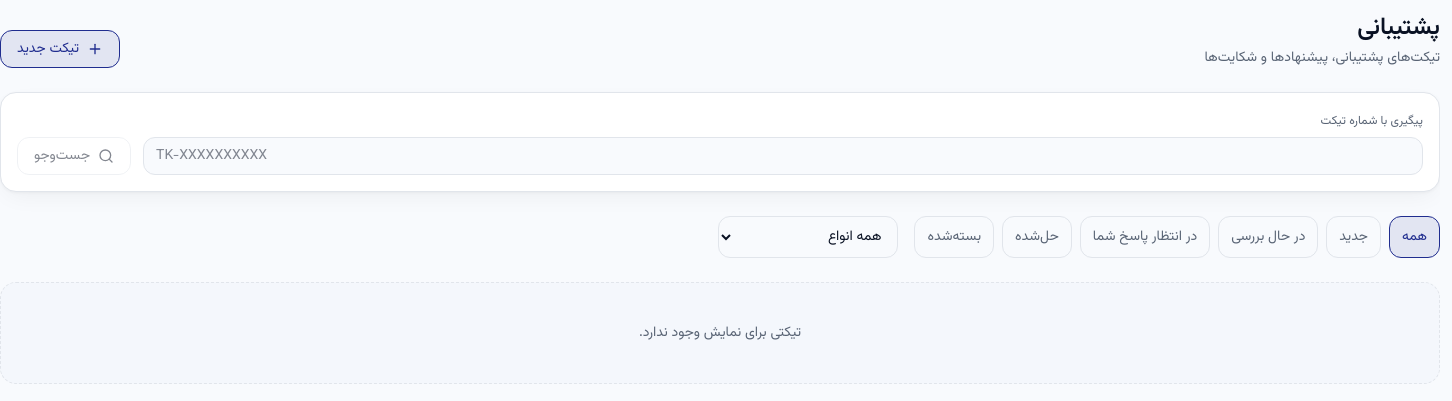
Test: CoreSupportView › shows one neutral message when a tracking number does not resolve
In the field labelled "پیگیری با شماره تیکت": (783, 156) [143, 137, 1423, 175], type "TK-ZZZZZZZZZZ"
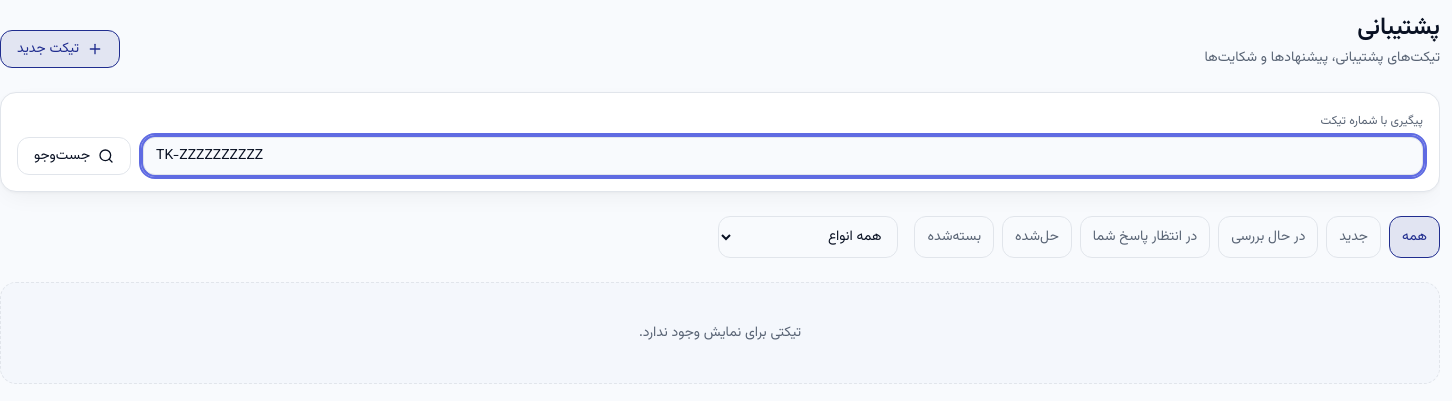
Click the button "جست‌وجو": (74, 156) [17, 137, 131, 175]
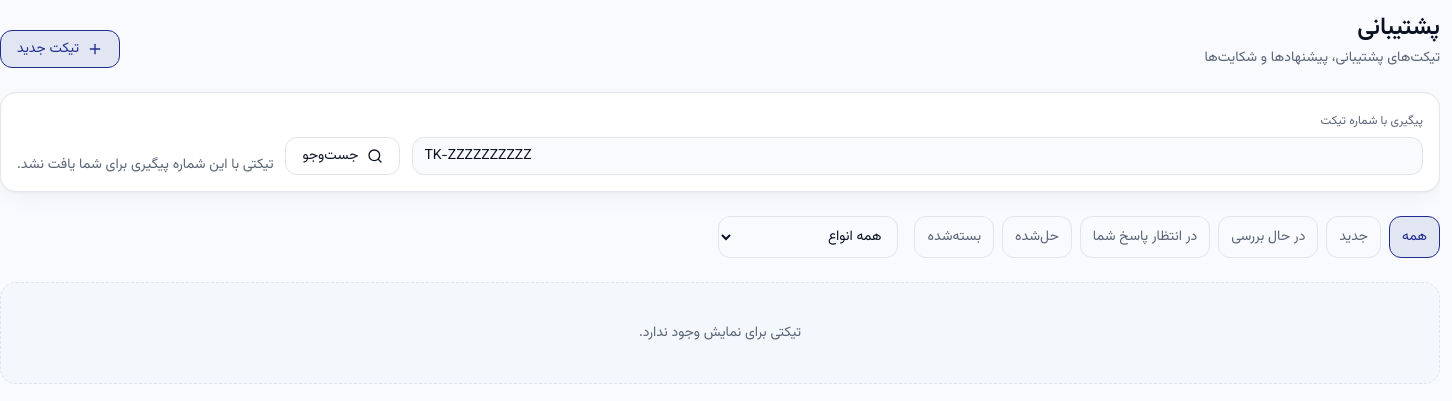
Expected: the text "تیکتی با این شماره پیگیری برای شما یافت نشد." is shown, [17, 155, 274, 175]
